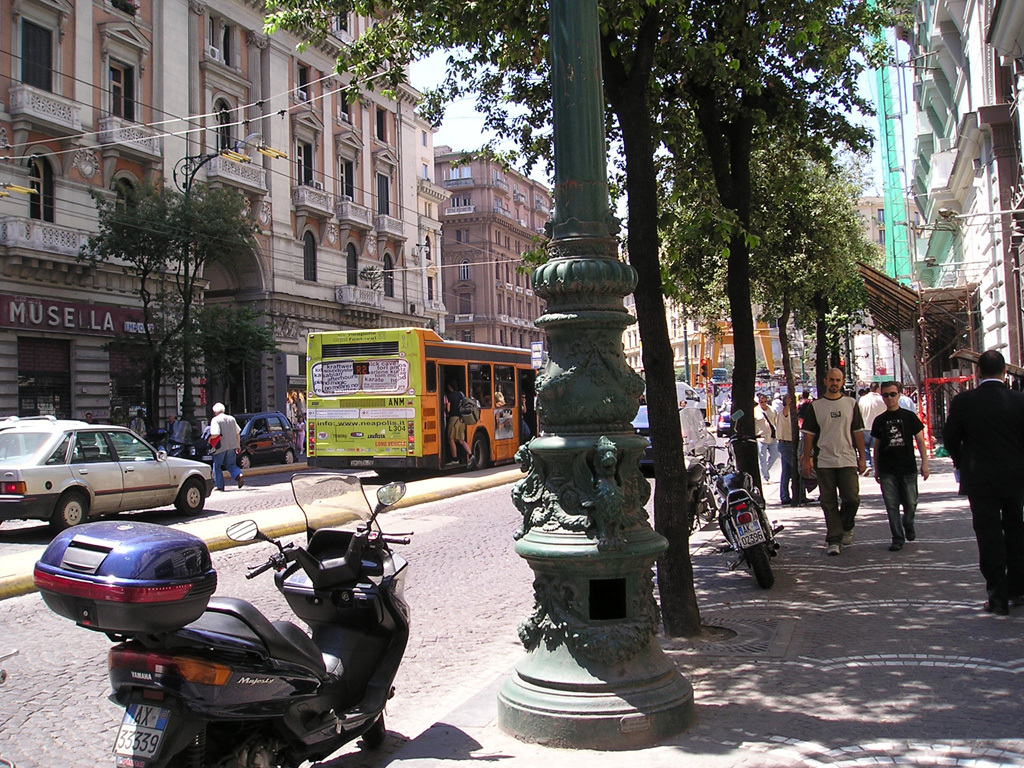Motorcycle: (108, 472, 414, 767), (714, 460, 789, 585), (682, 443, 716, 528)
